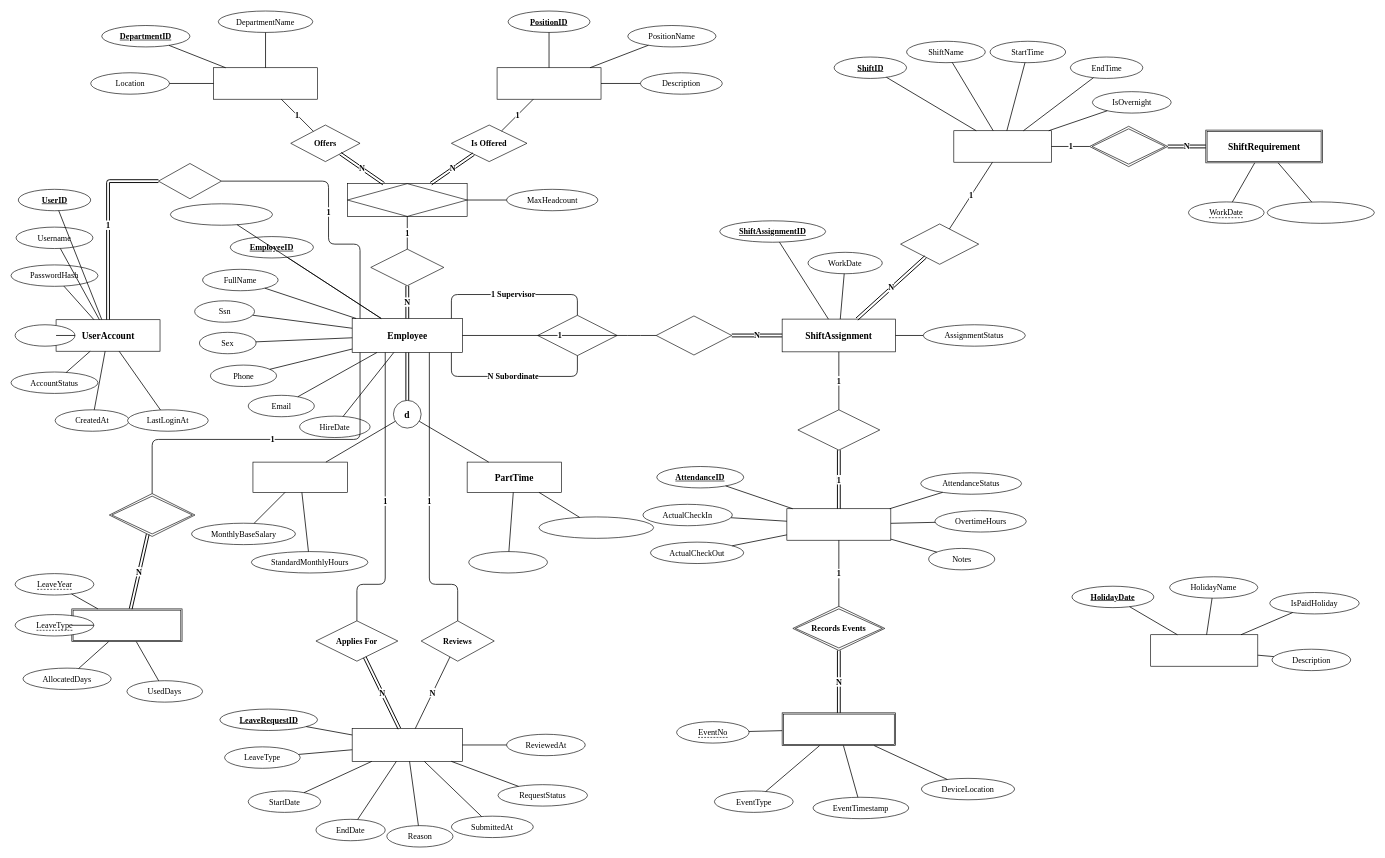
Image size: 1385x858. Some labels were removed from this diagram. Each missing label, with the box of its shape:
Assigns: (370, 249, 444, 286)
Attendance: (786, 508, 891, 540)
AttendanceEvent: (782, 712, 896, 746)
Department: (213, 67, 318, 99)
DepartmentPosition: (347, 183, 467, 216)
EmploymentStatus: (170, 203, 272, 225)
ExpectedWeeklyHours: (538, 516, 654, 538)
FullTime: (252, 461, 347, 492)
Has Balance: (109, 493, 195, 536)
Has Record: (797, 409, 880, 450)
HourlyRate: (468, 551, 547, 573)
Is Used In: (900, 223, 979, 264)
LeaveBalance: (71, 608, 182, 642)
LeaveRequest: (352, 728, 462, 761)
Position: (496, 67, 601, 99)
PublicHoliday: (1150, 634, 1258, 666)
Receives: (656, 315, 732, 355)
RequiredEmployees: (1267, 201, 1374, 223)
Requires: (1089, 126, 1168, 167)
Role: (14, 324, 75, 346)
Shift: (953, 130, 1051, 162)
Supervises: (537, 315, 617, 356)
Uses: (158, 163, 221, 199)
